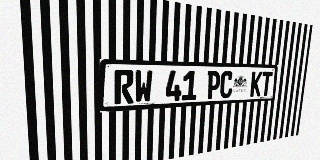1: (181, 70, 198, 101)
4: (165, 70, 182, 101)
C: (219, 71, 233, 98)
K: (250, 71, 263, 97)
P: (206, 71, 221, 99)
R: (114, 70, 134, 104)
T: (260, 71, 273, 96)
W: (134, 70, 153, 103)
